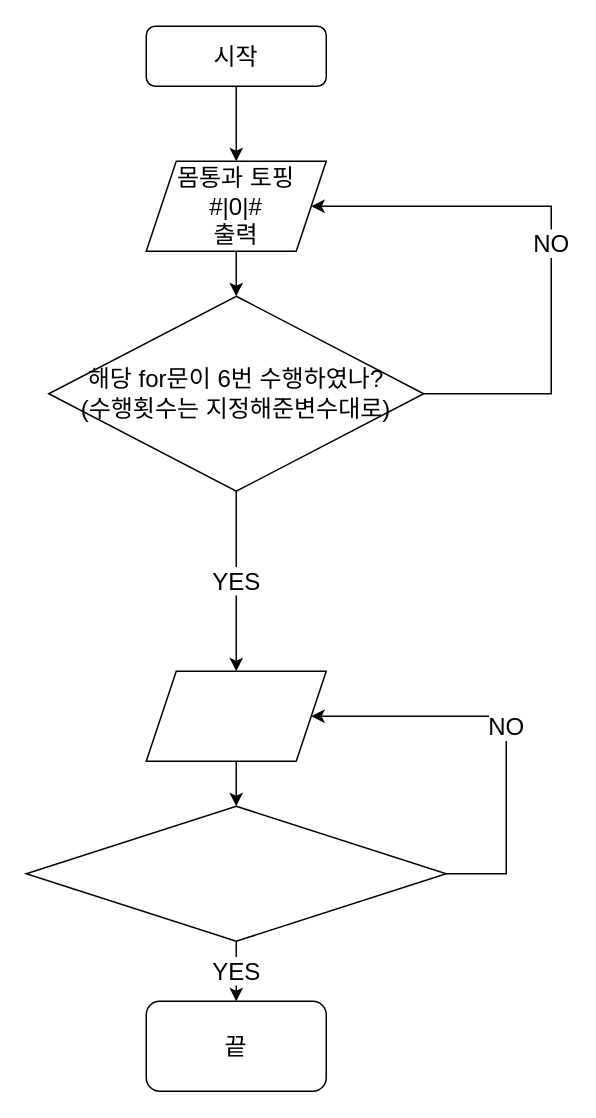
This 596x1118 diagram has some shape labels left out. Here are the shapes that lost their labels. From the top down, the centre of each, then its label:
[235,715]: 막대부분 | | 출력
[235,873]: 해당 for문이 4번 수행하였나? (수행횟수는 지정해준변수대로)
